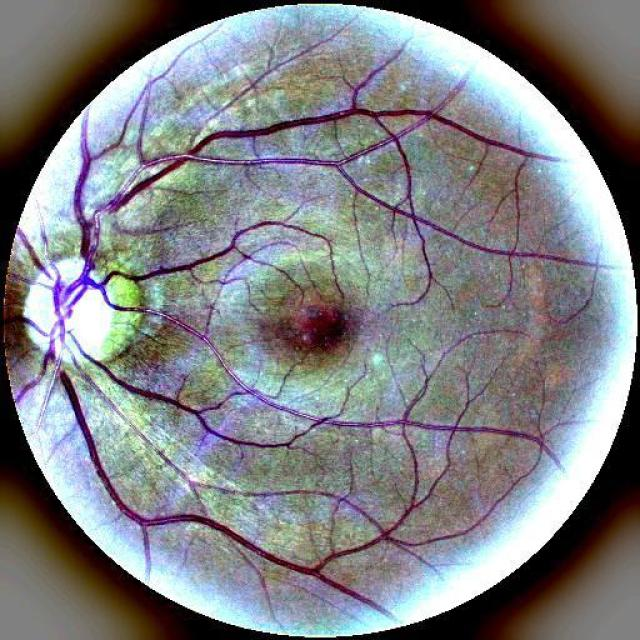Macula: (260, 258, 357, 380)
Nerves: (42, 266, 379, 608), (71, 67, 181, 264)
Optic Disk: (13, 232, 146, 390)
